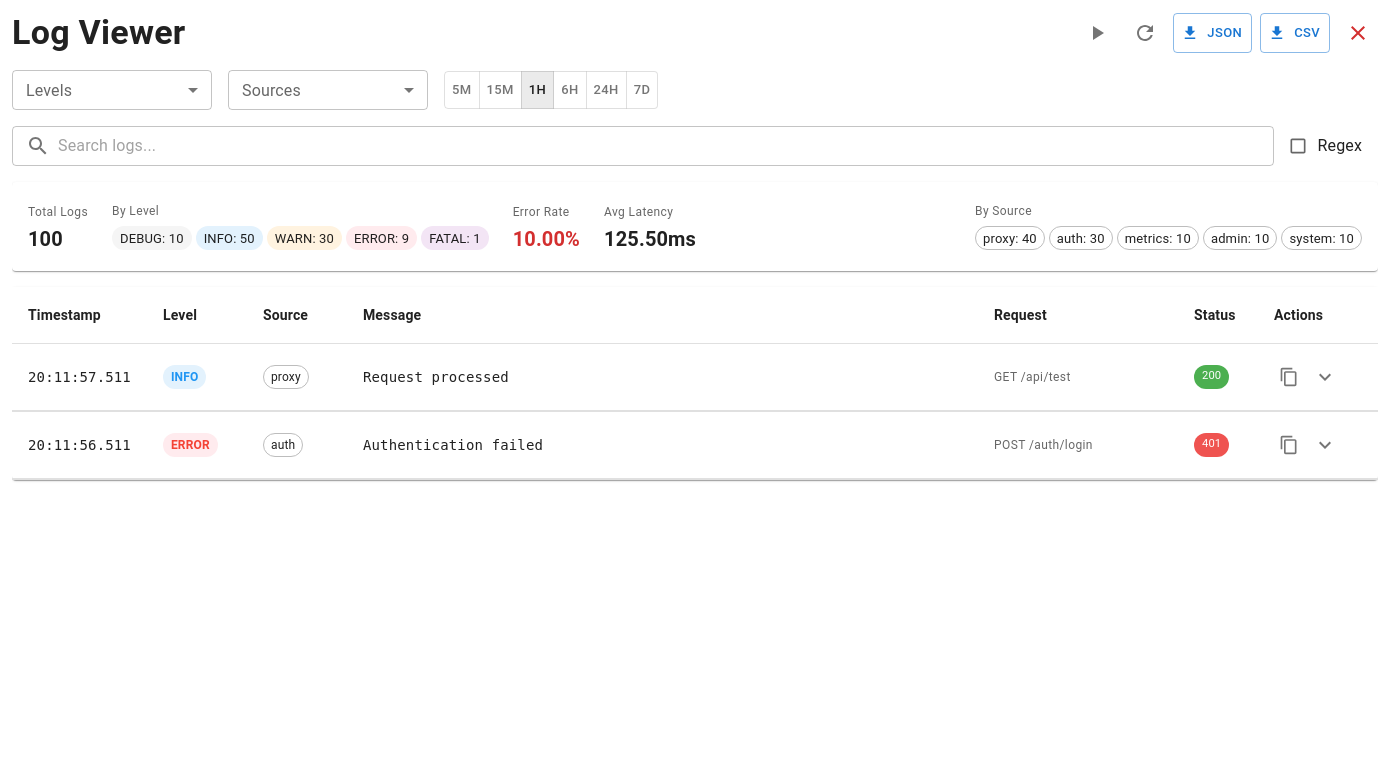
Test: Logs Page Integration › should show streaming indicator when streaming is active
The width and height of the screenshot is (1390, 780).
expect the text "Request processed" is shown: met, box [363, 369, 509, 385]
// Enable streaming
What coordinates should you click on to do the following:
click the button named "start streaming"
I would click on:
 (1097, 33)
Its box is [1077, 13, 1117, 53].
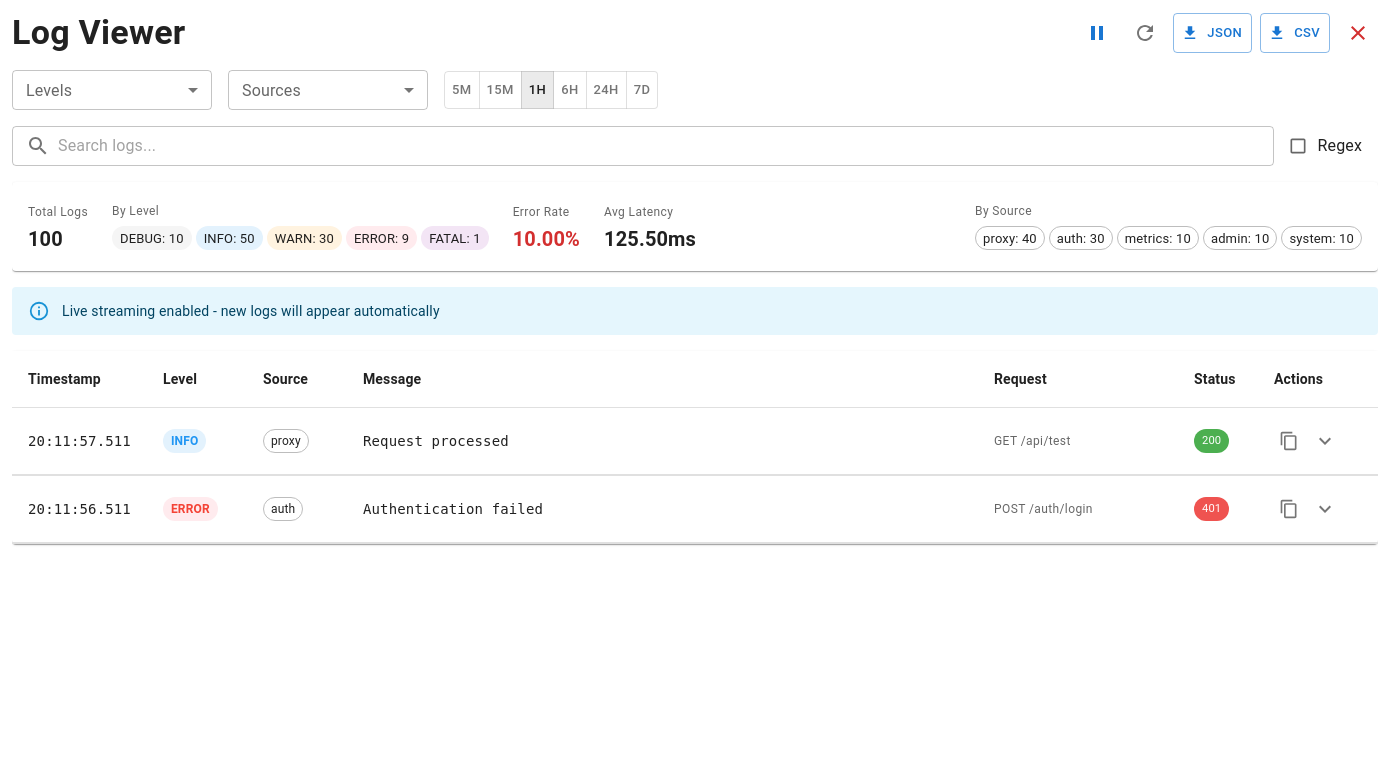
expect the text "Live streaming enabled - new logs will appear automatically" is shown: met, box [62, 303, 440, 319]
